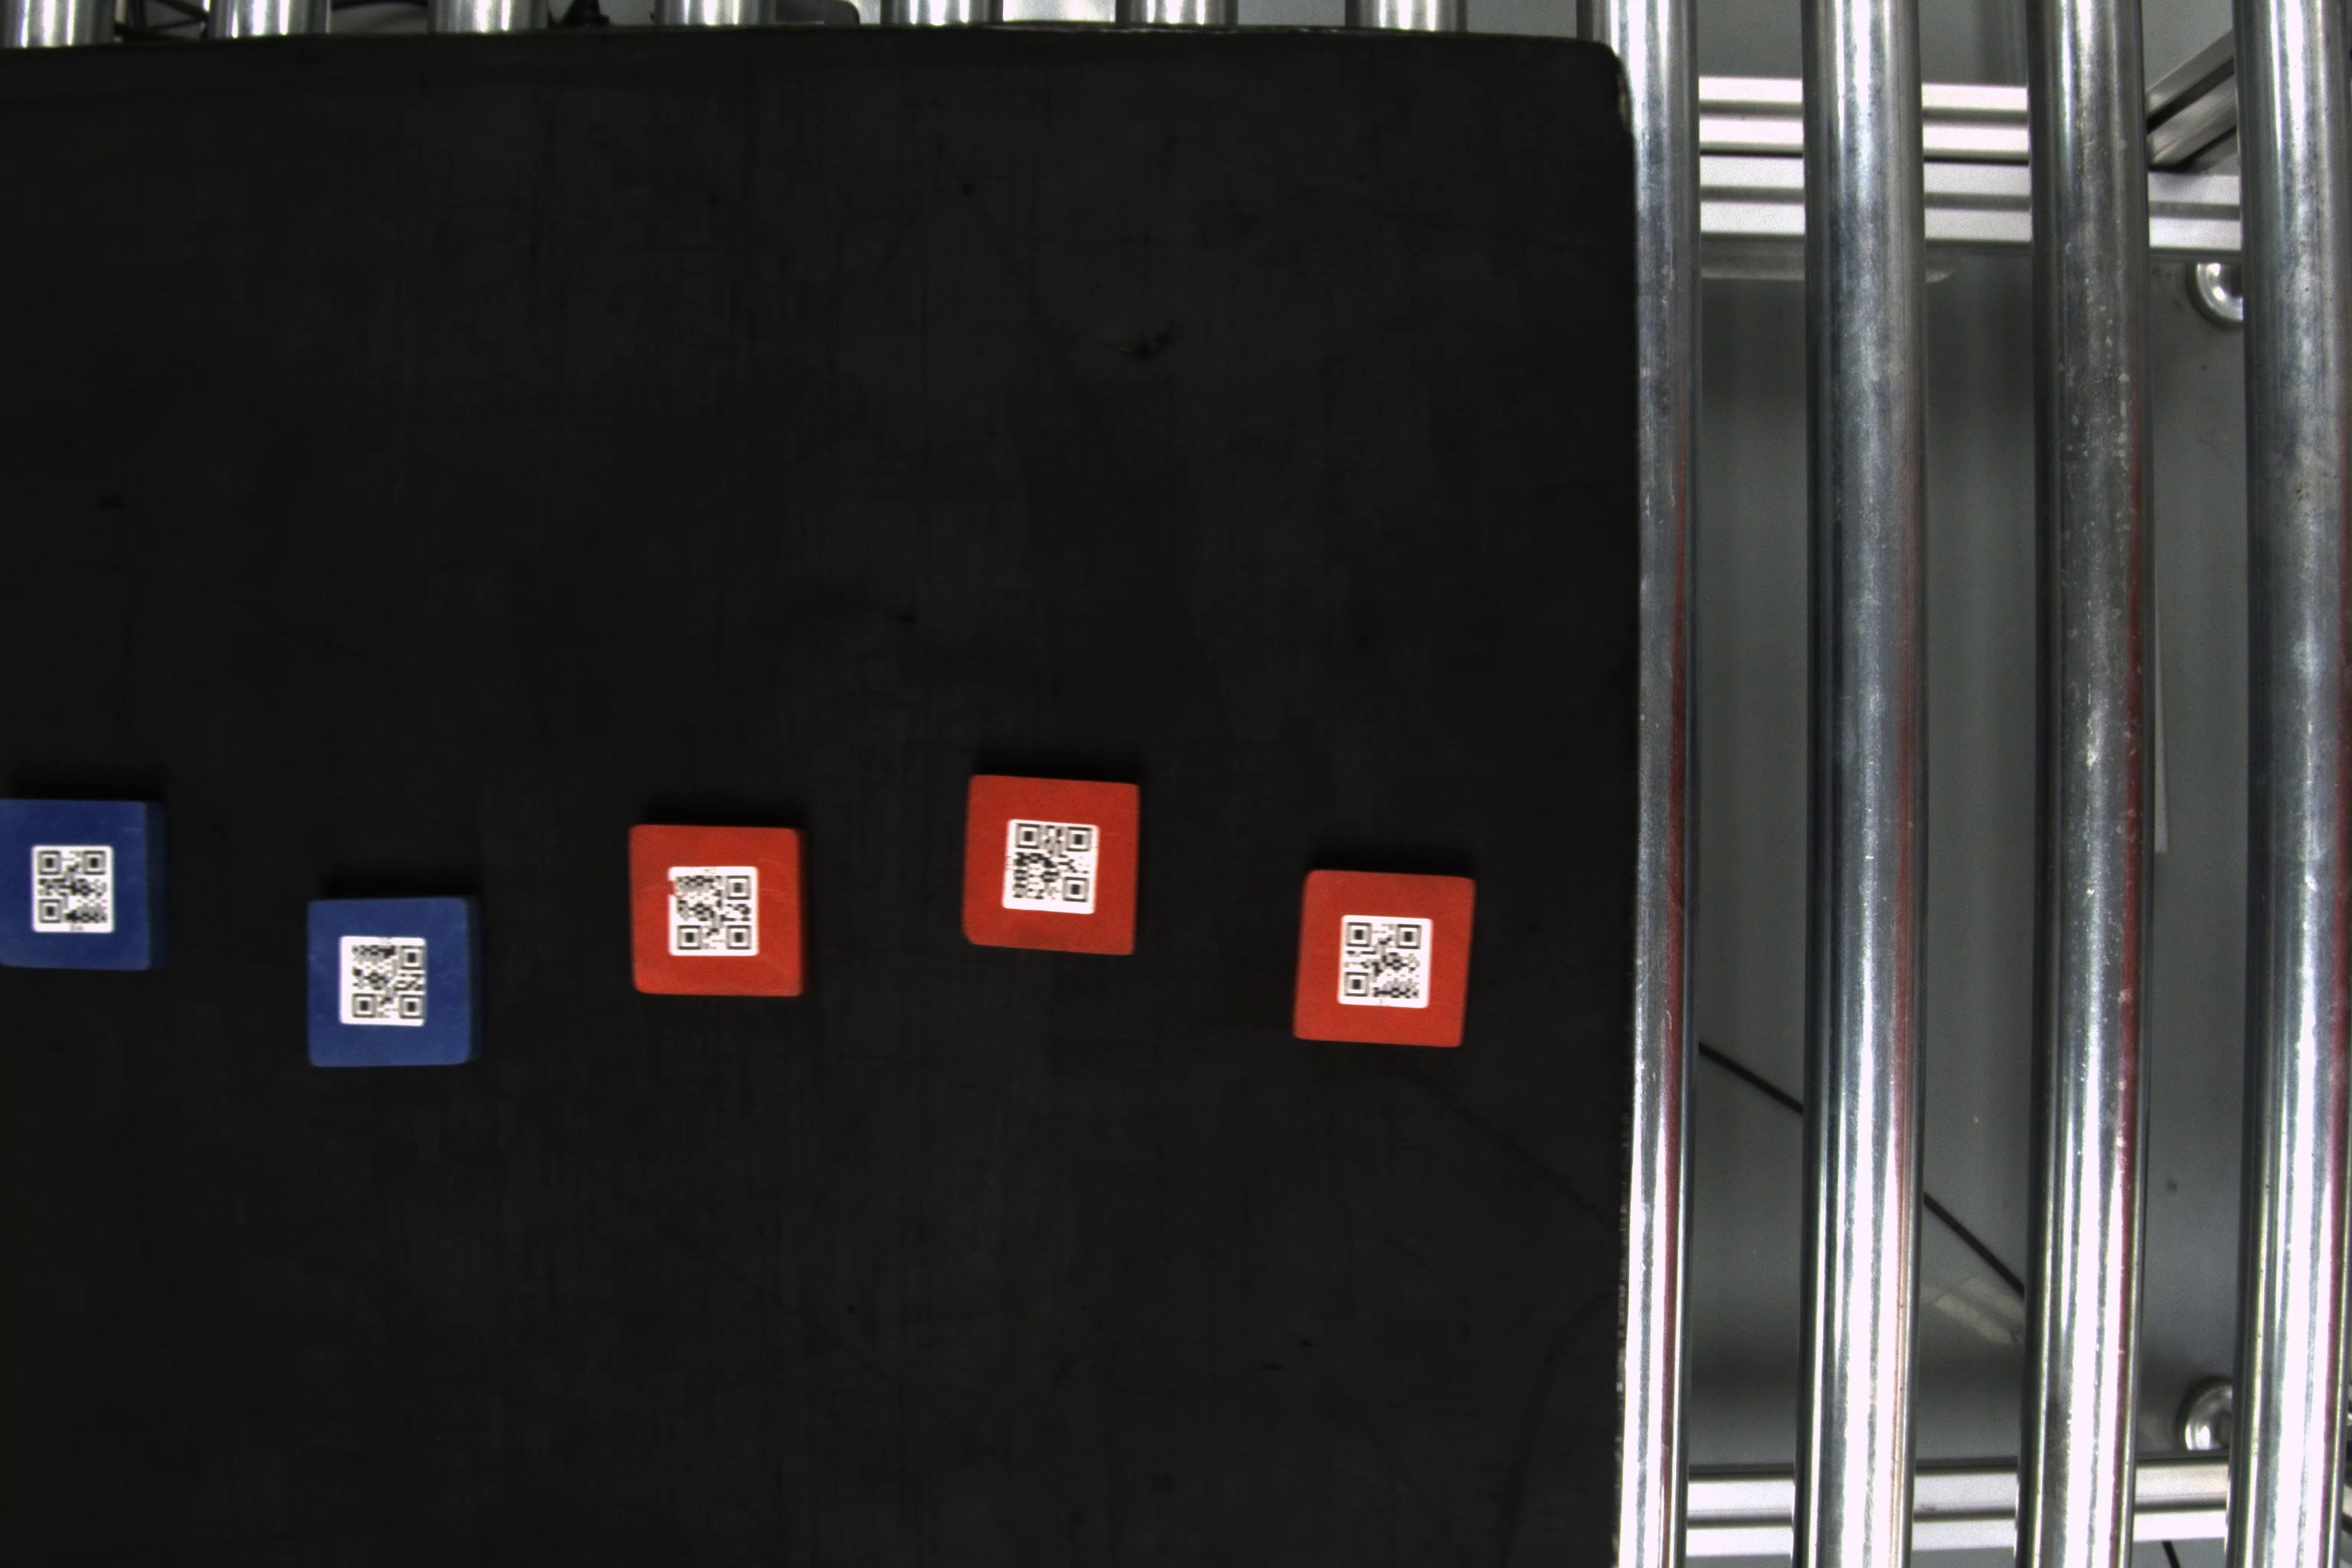wood: (957, 768, 1137, 961), (625, 819, 808, 1004), (1297, 864, 1472, 1050), (301, 898, 483, 1071), (3, 798, 163, 973)
